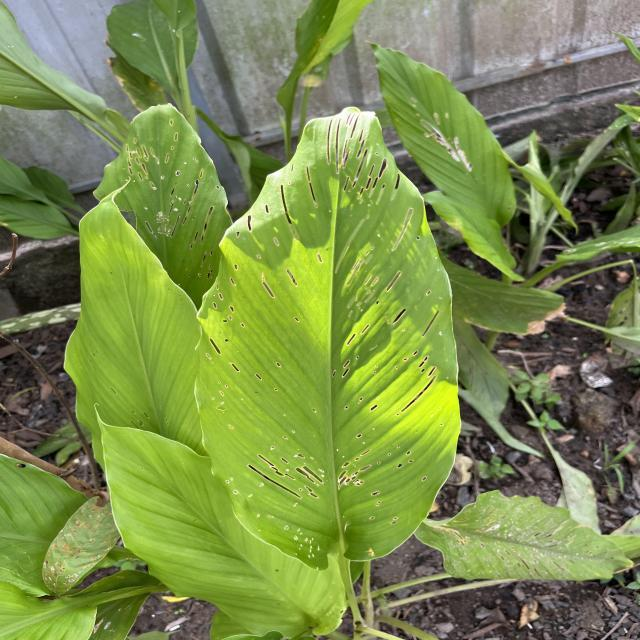Curcuma longa: (188, 104, 464, 573), (87, 398, 351, 640), (58, 172, 204, 510)
